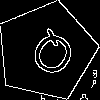Q: (21, 26, 81, 88)
